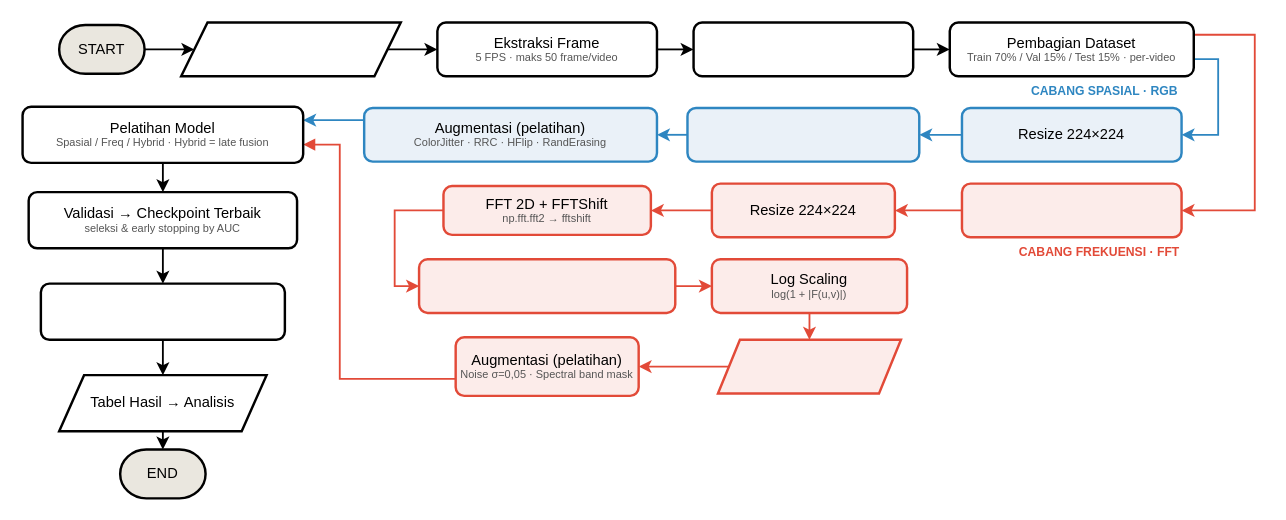
Some shapes in this 1286 by 520 pixel diagram are drawn without their labels. Here are the shapes that lost their labels. From the top down, the centre of each, then its label:
the point at 290,49: Dataset Video FFPP (c23) & Celeb-DF v2
the point at 803,49: Deteksi Wajah & Crop MTCNN · margin 0,3
the point at 803,134: Normalisasi ImageNet tetap 3-kanal warna
the point at 1071,210: Konversi Grayscale Y=0,299R+0,587G+0,114B
the point at 546,285: Magnitude & High-Pass |F(u,v)| × Gaussian HPF (β=0,15)
the point at 162,311: Evaluasi (In & Cross-dataset) acc, precision, recall, F1, AUC
the point at 809,366: Cache .npy + Z-Score μ,σ per-dataset
